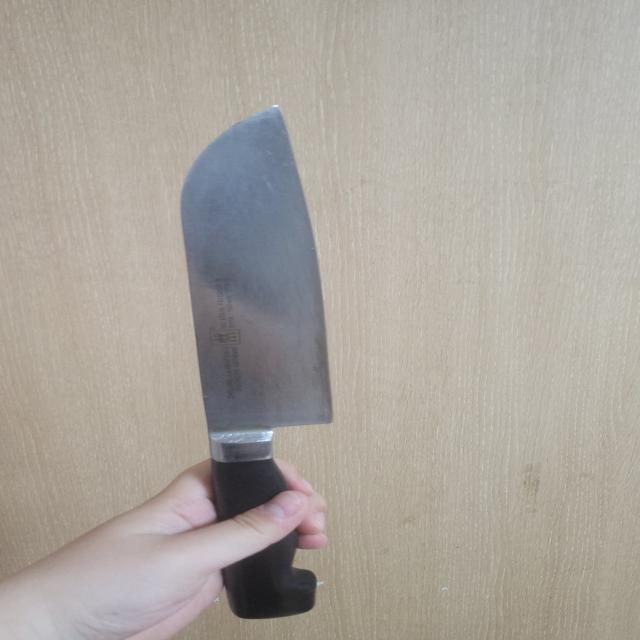knife: (179, 106, 333, 621)
